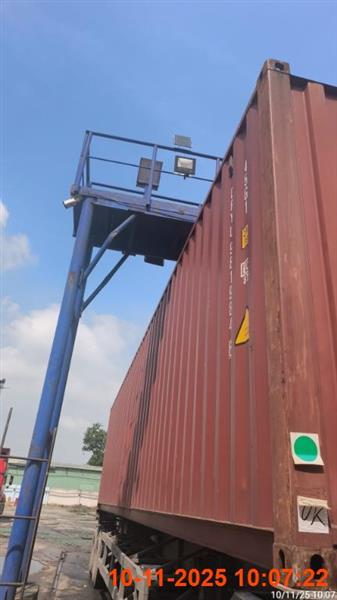broken: (89, 60, 336, 598)
